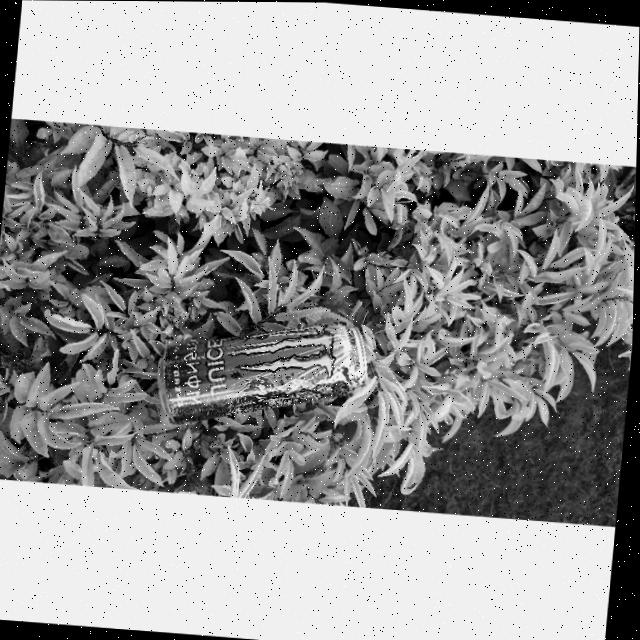Monster Aussie Lemonade: (155, 307, 371, 435)
